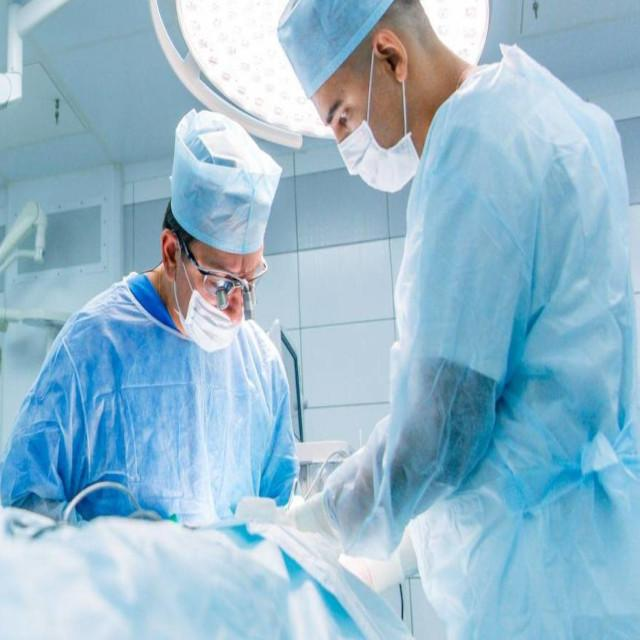mezczyzna: (288, 0, 607, 501), (68, 137, 282, 511)
